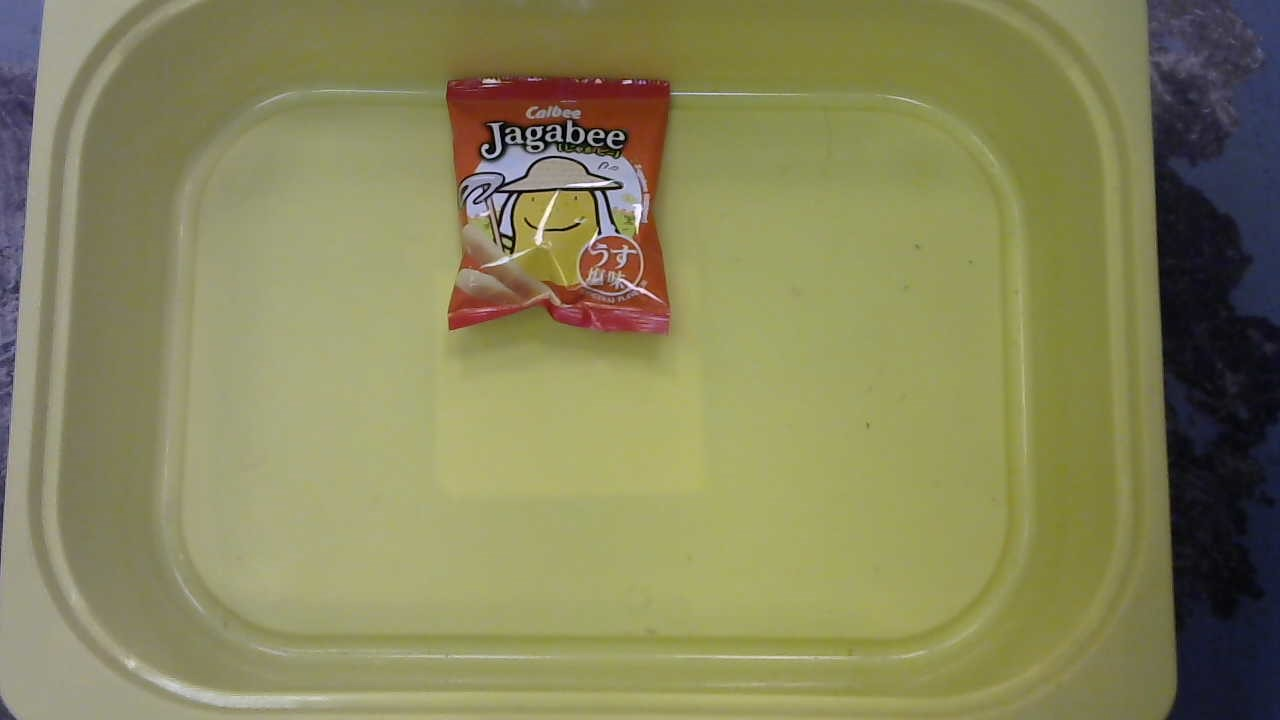JagabeeFarmer: (433, 73, 681, 344)
